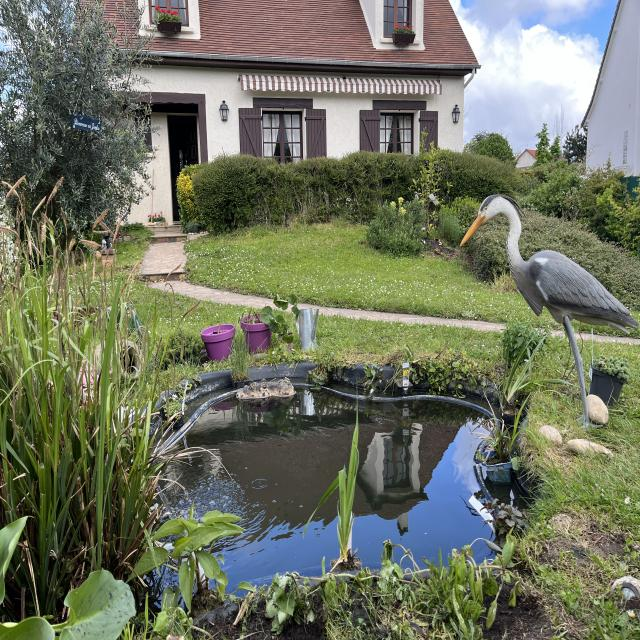Heron: (449, 191, 640, 451)
